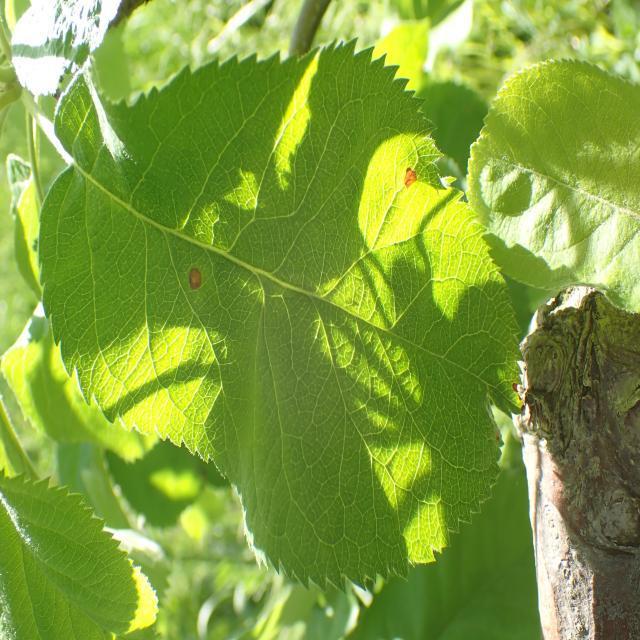frog-eye-leaf-spot: (39, 36, 528, 595)
